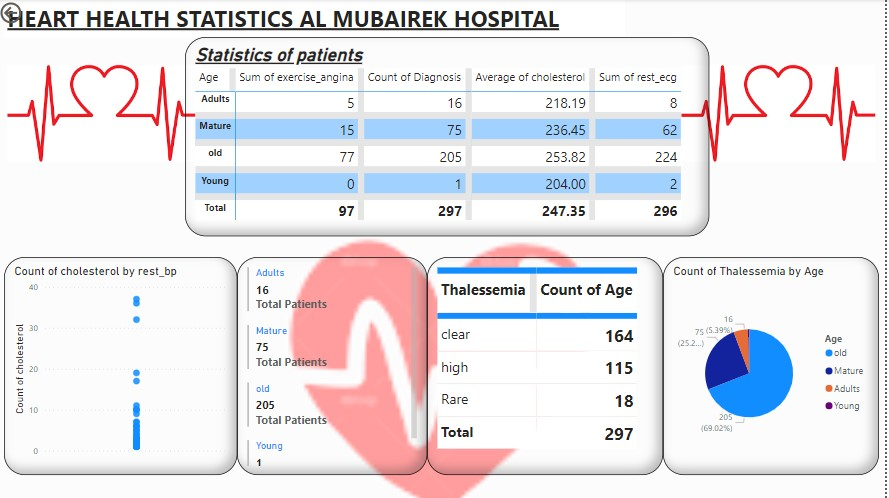

This screenshot's page, from the dashboard's own definition file:
{"tool":"powerbi","page":{"name":"Page 1","canvas":[1280,720],"ordinal":0},"visuals":[{"type":"textbox","box":[10.1,0,894.2,54.7],"z":0},{"type":"card","fields":{"Values":["heart_data.total patients"]},"box":[9.8,53.8,156.5,202.9],"z":1000},{"type":"donutChart","fields":{"Category":["heart_data.Diagnosis"],"Y":["CountNonNull(heart_data.Diagnosis)"]},"box":[958.4,53.8,287.3,202.9],"z":2000},{"type":"columnChart","fields":{"Category":["heart_data.Age"],"Y":["heart_data.Total Patients"]},"box":[9.8,277.5,265.3,196.8],"z":3000},{"type":"donutChart","fields":{"Y":["heart_data.Total Patients"],"Category":["heart_data.Gender"]},"box":[190.7,47.7,315.4,220],"z":4000},{"type":"scatterChart","fields":{"X":["heart_data.cholesterol"],"Y":["Sum(heart_data.rest_bp)"]},"box":[514.6,47.7,423,220],"z":5000},{"type":"areaChart","fields":{"Y":["heart_data.Total Patients"],"Category":["heart_data.rest_bp"]},"box":[10.1,488.2,580.3,197.3],"z":6000},{"type":"areaChart","fields":{"Y":["heart_data.Total Patients"],"Category":["heart_data.st_depression"]},"box":[613.7,487.7,506.1,198],"z":7000},{"type":"slicer","fields":{"Values":["heart_data.Age"]},"box":[1119.7,282.4,160.1,187],"z":8000},{"type":"slicer","fields":{"Values":["heart_data.Gender"]},"box":[1119.7,485.3,160.1,206.6],"z":9000},{"type":"pivotTable","title":"Statistics of patients","fields":{"Rows":["heart_data.Age"],"Values":["Sum(heart_data.exercise_angina)","CountNonNull(heart_data.Diagnosis)","Avg(heart_data.cholesterol)","Sum(heart_data.rest_ecg)"]},"box":[275,282.4,806.8,187],"z":10000}]}

Visuals, with their boxes in screenshot pixels (x1, y1, x2, y2), scaled from the page's 1280x720 canvas onto the 889x498 screenshot:
textbox: [x1=7, y1=0, x2=628, y2=38]
card - heart_data.total patients: [x1=7, y1=37, x2=116, y2=178]
donutChart - heart_data.Diagnosis x CountNonNull(heart_data.Diagnosis): [x1=666, y1=37, x2=865, y2=178]
columnChart - heart_data.Age x heart_data.Total Patients: [x1=7, y1=192, x2=191, y2=328]
donutChart - heart_data.Total Patients x heart_data.Gender: [x1=132, y1=33, x2=352, y2=185]
scatterChart - heart_data.cholesterol x Sum(heart_data.rest_bp): [x1=357, y1=33, x2=651, y2=185]
areaChart - heart_data.Total Patients x heart_data.rest_bp: [x1=7, y1=338, x2=410, y2=474]
areaChart - heart_data.Total Patients x heart_data.st_depression: [x1=426, y1=337, x2=778, y2=474]
slicer - heart_data.Age: [x1=778, y1=195, x2=888, y2=325]
slicer - heart_data.Gender: [x1=778, y1=336, x2=888, y2=479]
"Statistics of patients" pivotTable: [x1=191, y1=195, x2=751, y2=325]
